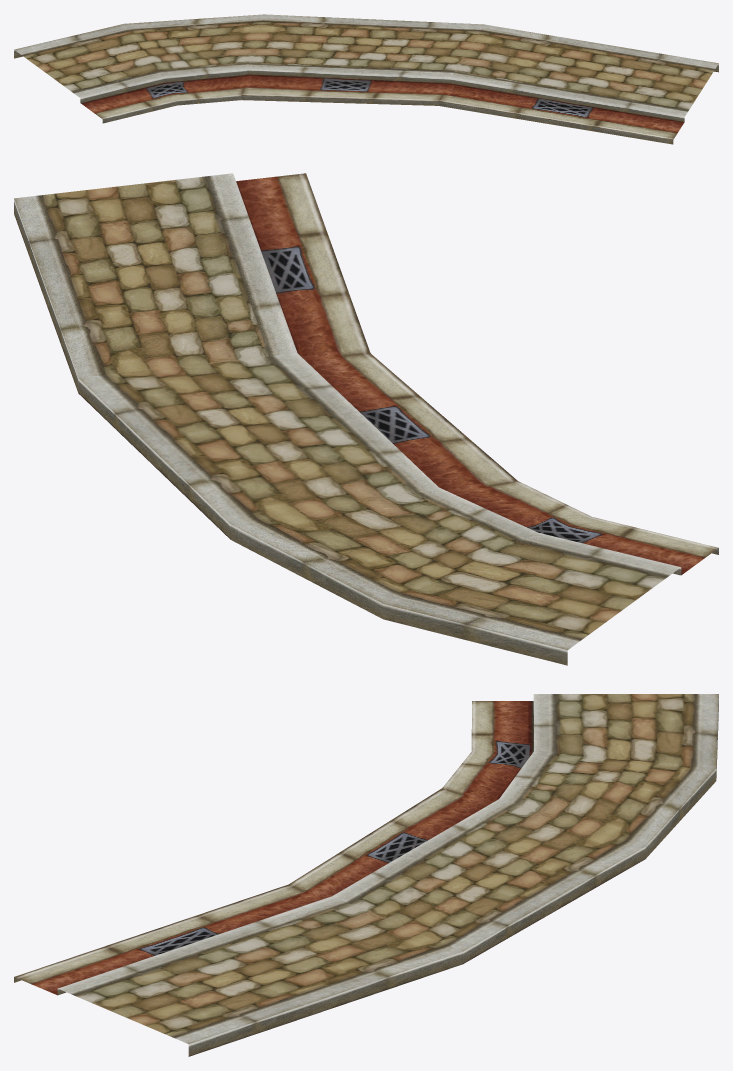
The model's file is obj_masabkrouinri02.glb.
3 renders of one model, top to bottom at view 1: azimuth 30°, elevation 25°; view 2: azimuth 150°, elevation 25°; view 3: azimuth 270°, elevation 25°, orthographic. The views are drawn at different scales.
Visible parts, largest first — view 1: part_0; view 2: part_0; view 3: part_0.
Part boxes in pixels (<box>): part_0: <box>14,14,718,144</box>; part_0: <box>14,173,718,665</box>; part_0: <box>14,694,718,1056</box>.
Bounding box in the file's own units: 13.41 × 0.2336 × 11.42.
Materials: 1 (1 with a texture image).
